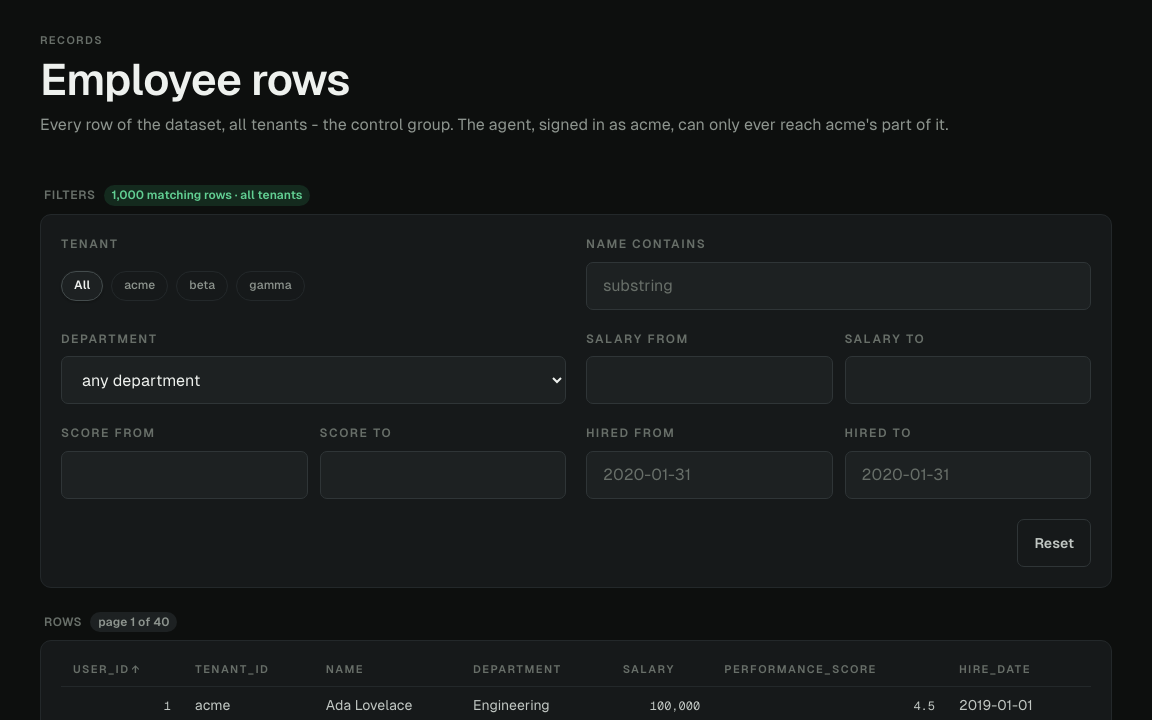
Test: the records tab › sends the tenant chip the reader picked, and says what the filtered total counts
Click the button "acme" at (140, 286), box [111,270,168,300]
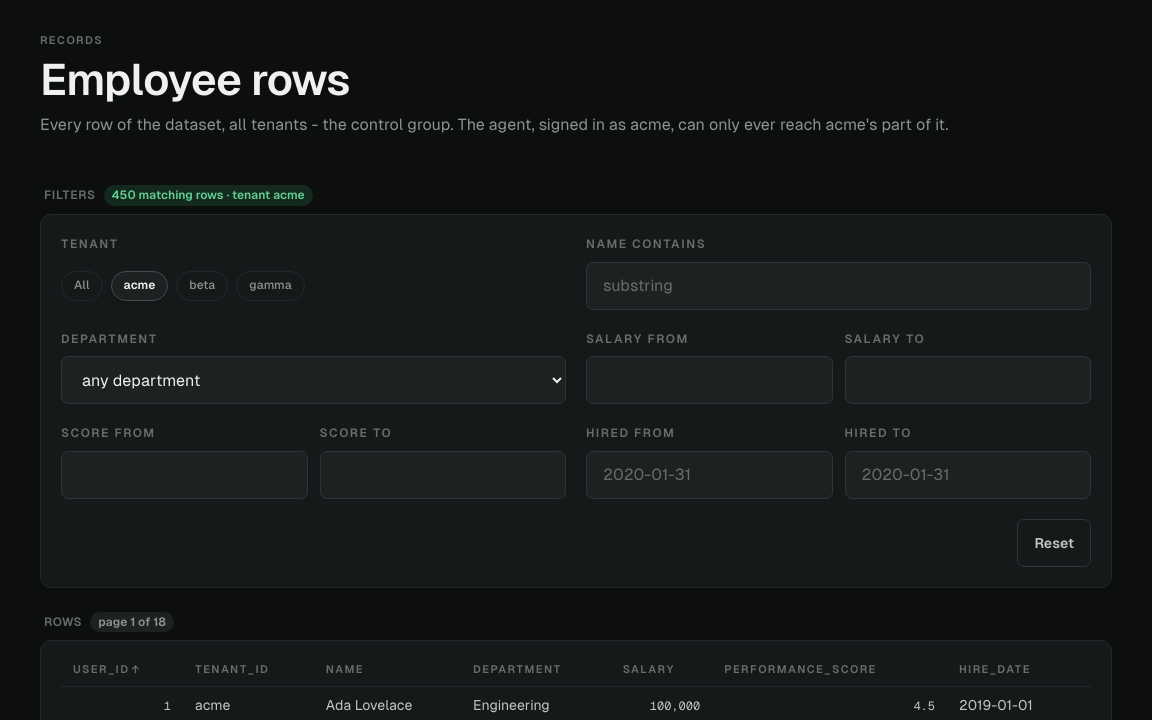
Result: the text "450 matching rows · tenant acme" is shown at [104,185,313,206]
